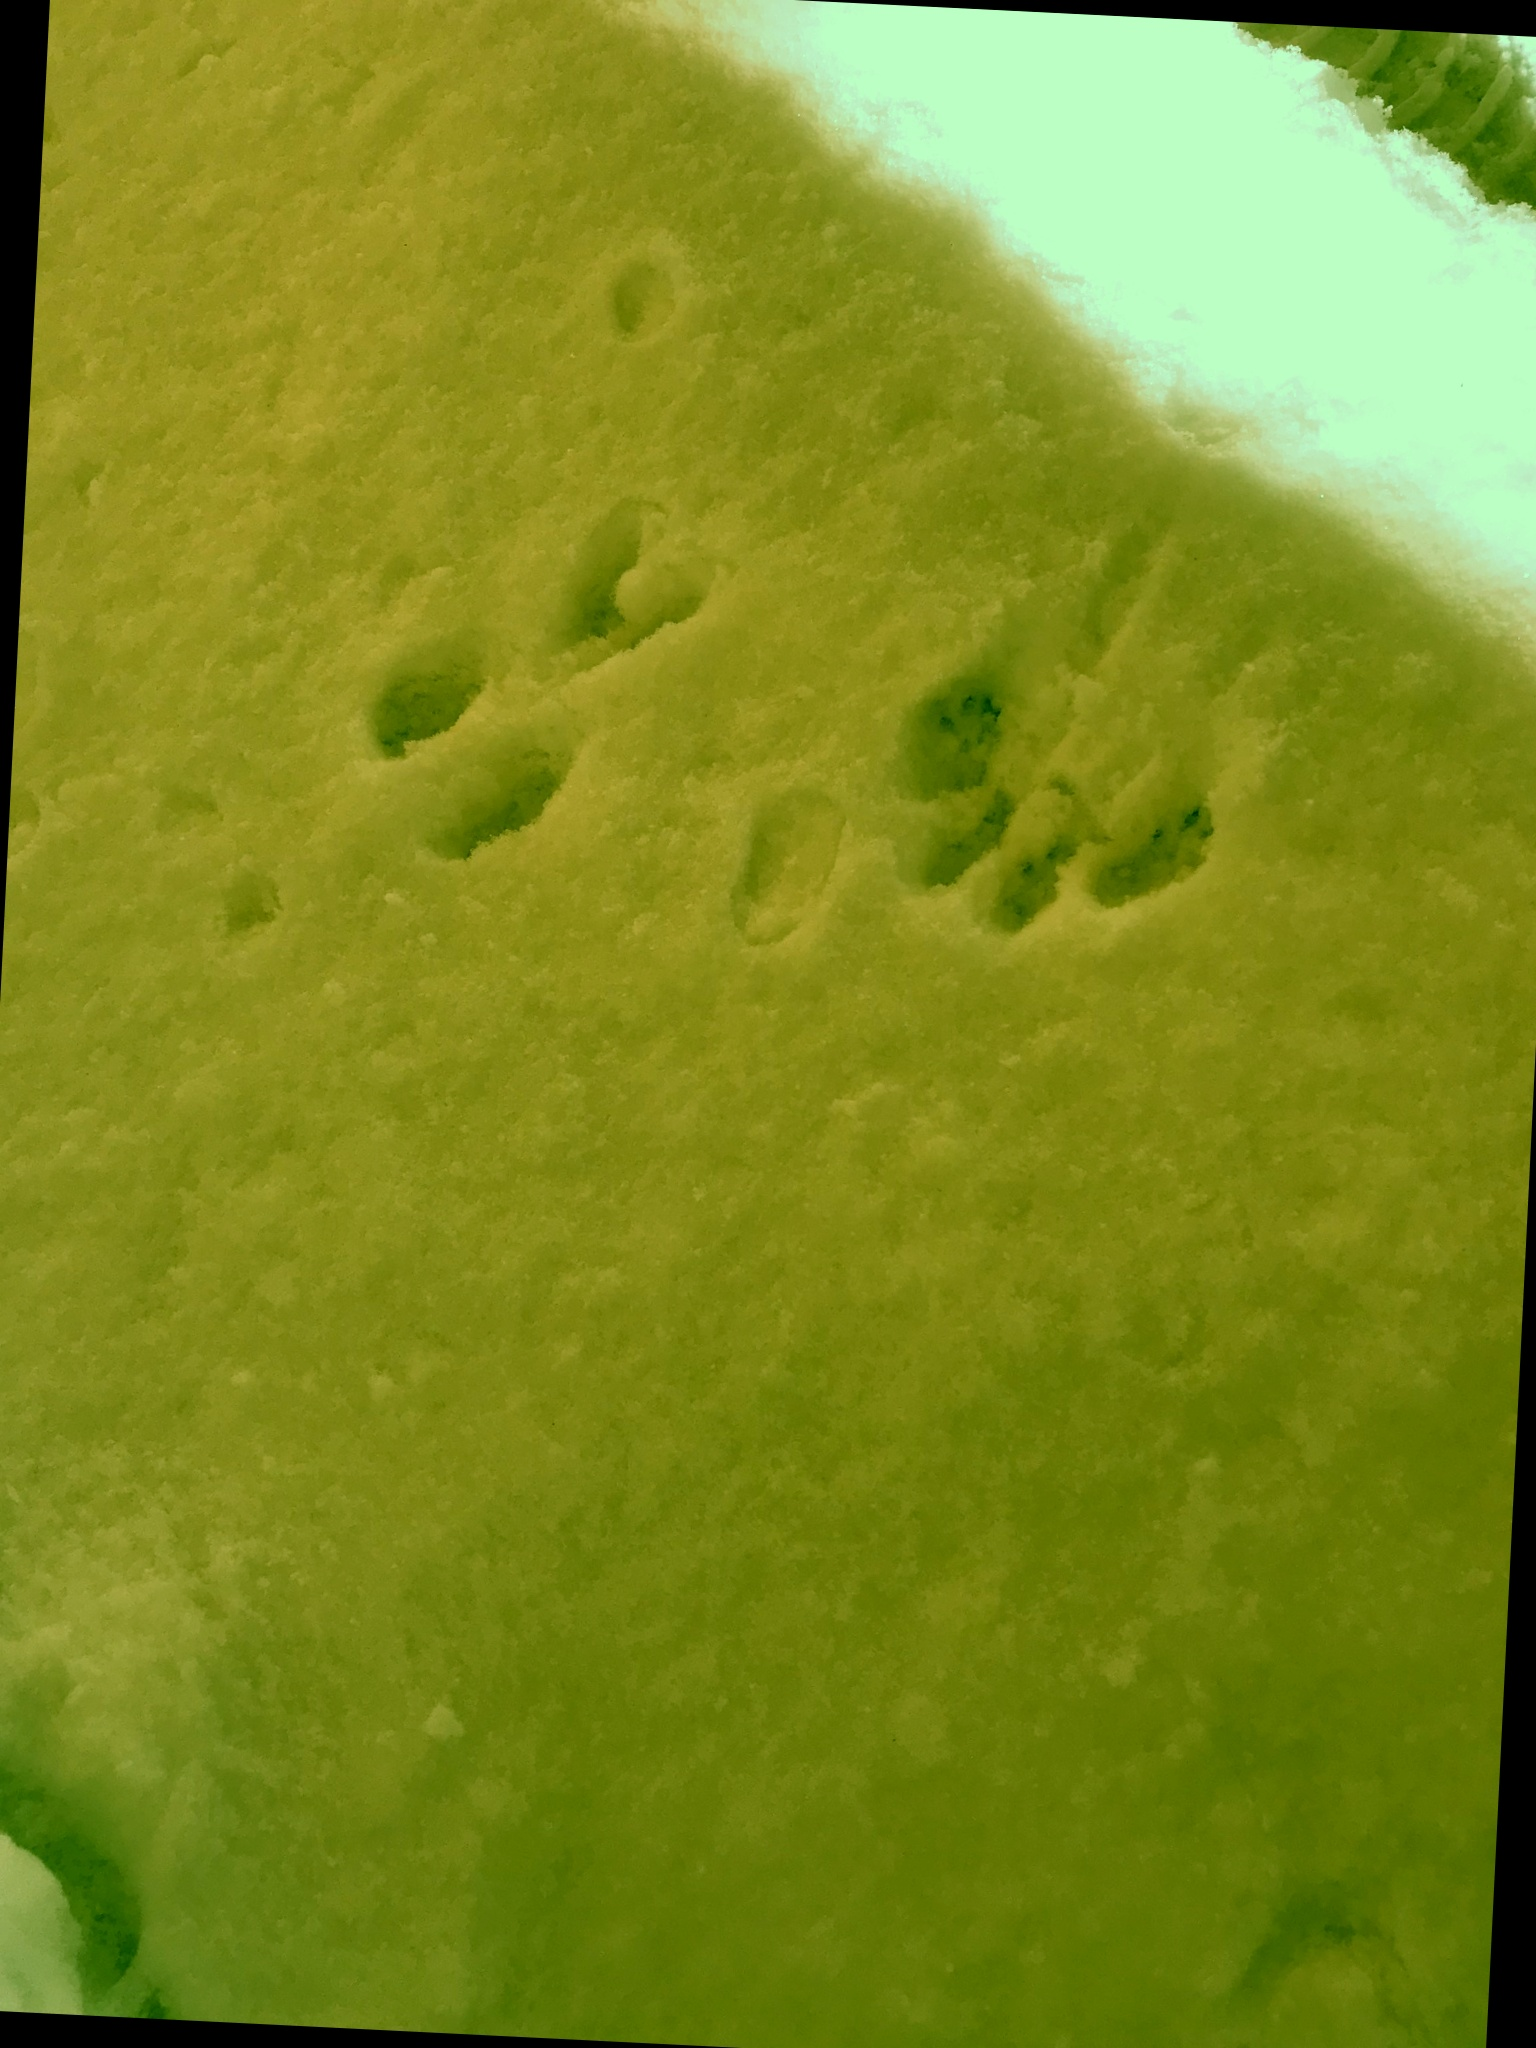ecureuil: (152, 164, 1462, 1172)
